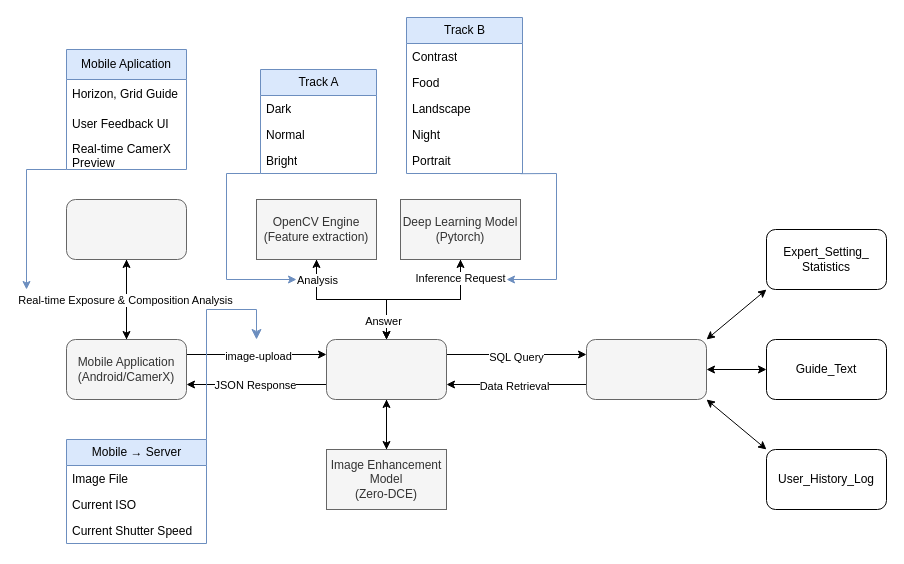
Image size: 904x564. Some labels were removed from this diagram. The centre of each missing label's shape, as x and y in pixels:
"AI Server (Fast API)" belongs at point 386,369.
"OpenCV Engine (Local Analysis)" belongs at point 126,229.
"Relational Database (MySQL)" belongs at point 646,369.
